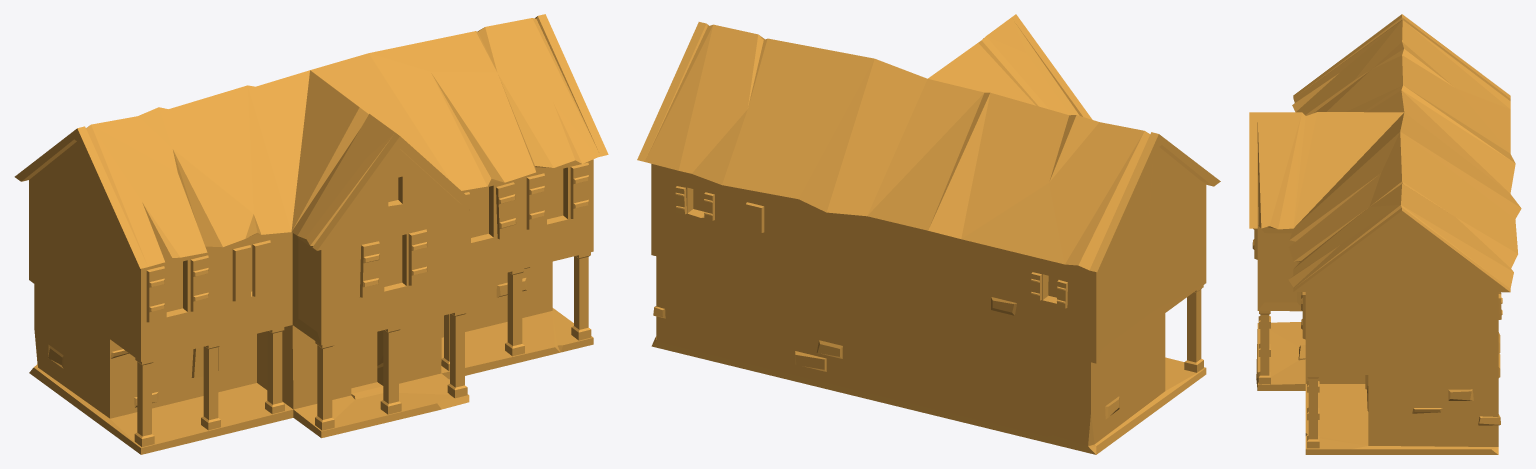
The model's file is house-pirate-big.fbx.
The picture shows the model from 3 angles, left to right: view 1: azimuth 30°, elevation 25°; view 2: azimuth 150°, elevation 25°; view 3: azimuth 270°, elevation 25°; orthographic projection. The views are drawn at different scales.
Parts seen in each view (by area): view 1: house-pirate-big; view 2: house-pirate-big; view 3: house-pirate-big.
Part boxes in pixels (x1=…): house-pirate-big: x1=14, y1=14, x2=608, y2=454; house-pirate-big: x1=637, y1=14, x2=1220, y2=454; house-pirate-big: x1=1249, y1=14, x2=1521, y2=454.
Bounding box in the file's own units: 14.48 × 8.65 × 8.47.
